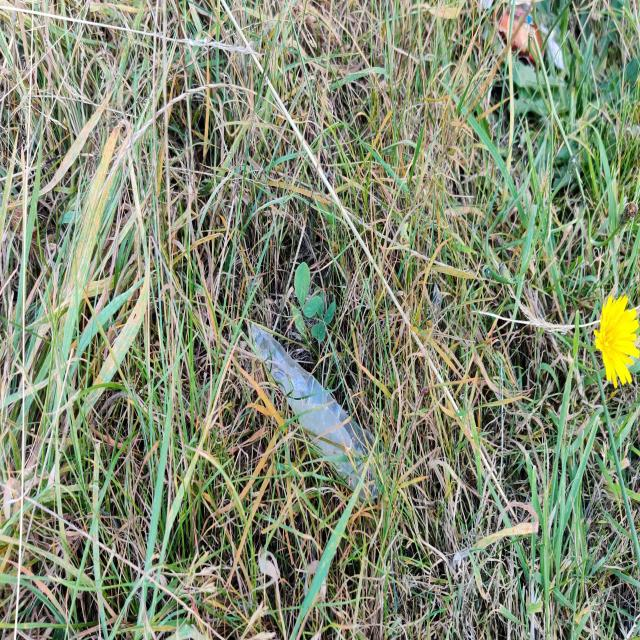litter: (251, 296, 401, 429)
